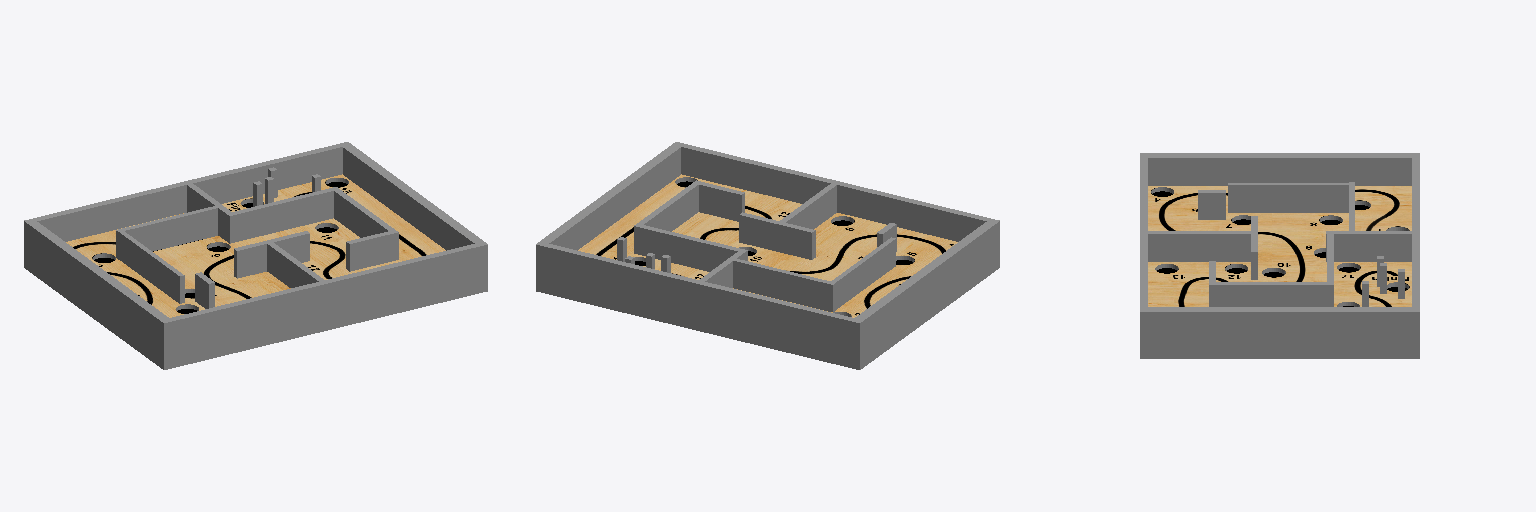
The picture shows the model from 3 angles: view 1: azimuth 30°, elevation 25°; view 2: azimuth 150°, elevation 25°; view 3: azimuth 270°, elevation 25°; orthographic projection.
Parts seen in each view (by area): view 1: Cube.002; view 2: Cube.002; view 3: Cube.002.
Part boxes in pixels (left/top/right/bottom): Cube.002: left=24, top=142, right=487, bottom=369; Cube.002: left=536, top=142, right=999, bottom=369; Cube.002: left=1140, top=153, right=1419, bottom=358.
Size of the model in its own units: 8 by 1.11 by 6.
Materials: 6 (2 with a texture image).